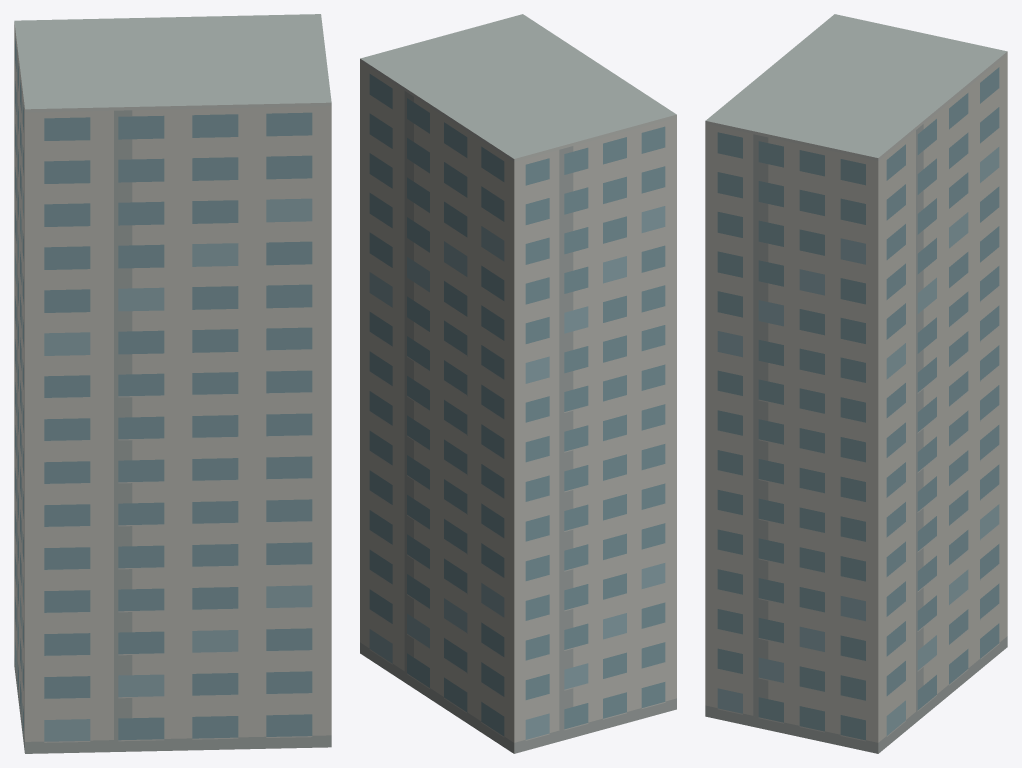
The model's file is residential-96262637-250e-4531-b447-e85ae810d236.glb.
3 renders of one model, left to right at view 1: azimuth 30°, elevation 25°; view 2: azimuth 150°, elevation 25°; view 3: azimuth 270°, elevation 25°, orthographic. The views are drawn at different scales.
Visible parts, largest first — view 1: residential-96262637-250e-4531-b447-e85ae810d236.tmp; view 2: residential-96262637-250e-4531-b447-e85ae810d236.tmp; view 3: residential-96262637-250e-4531-b447-e85ae810d236.tmp.
Boxes of the visible parts, x1,y1,x2,y2 form: residential-96262637-250e-4531-b447-e85ae810d236.tmp: (14,14,331,753); residential-96262637-250e-4531-b447-e85ae810d236.tmp: (360,14,676,753); residential-96262637-250e-4531-b447-e85ae810d236.tmp: (705,14,1007,753).
Size of the model in its own units: 24.4 by 47 by 21.61.
